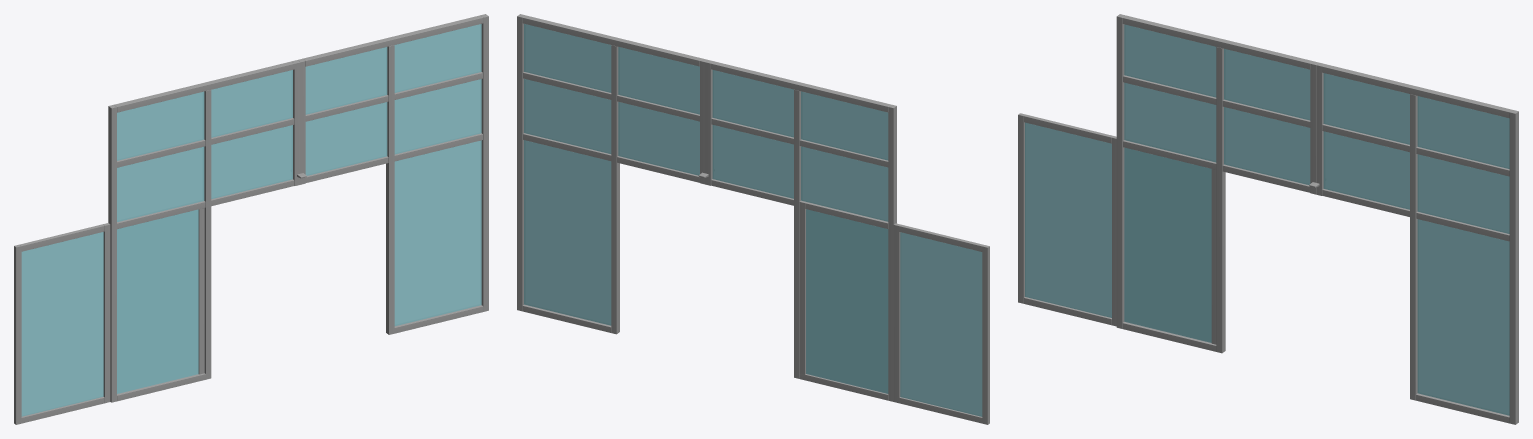
The model's file is central_entrance.fbx.
3 views of the same model, side by side, from view 1: azimuth 30°, elevation 25°; view 2: azimuth 150°, elevation 25°; view 3: azimuth 330°, elevation 25° (orthographic). The views are drawn at different scales.
Parts seen in each view (by area): view 1: central_entrance_1, entrance_door_r, entrance_door_l; view 2: central_entrance_1, entrance_door_r, entrance_door_l; view 3: central_entrance_1, entrance_door_r, entrance_door_l.
Part boxes in pixels (x1=…): central_entrance_1: x1=108, y1=14, x2=488, y2=402; entrance_door_r: x1=14, y1=223, x2=110, y2=424; entrance_door_l: x1=117, y1=201, x2=204, y2=394; central_entrance_1: x1=517, y1=14, x2=896, y2=401; entrance_door_r: x1=893, y1=223, x2=989, y2=424; entrance_door_l: x1=799, y1=200, x2=888, y2=394; central_entrance_1: x1=1116, y1=14, x2=1518, y2=424; entrance_door_r: x1=1018, y1=113, x2=1116, y2=326; entrance_door_l: x1=1123, y1=140, x2=1216, y2=344.
Bounding box in the file's own units: 593 × 353 × 22.95.
